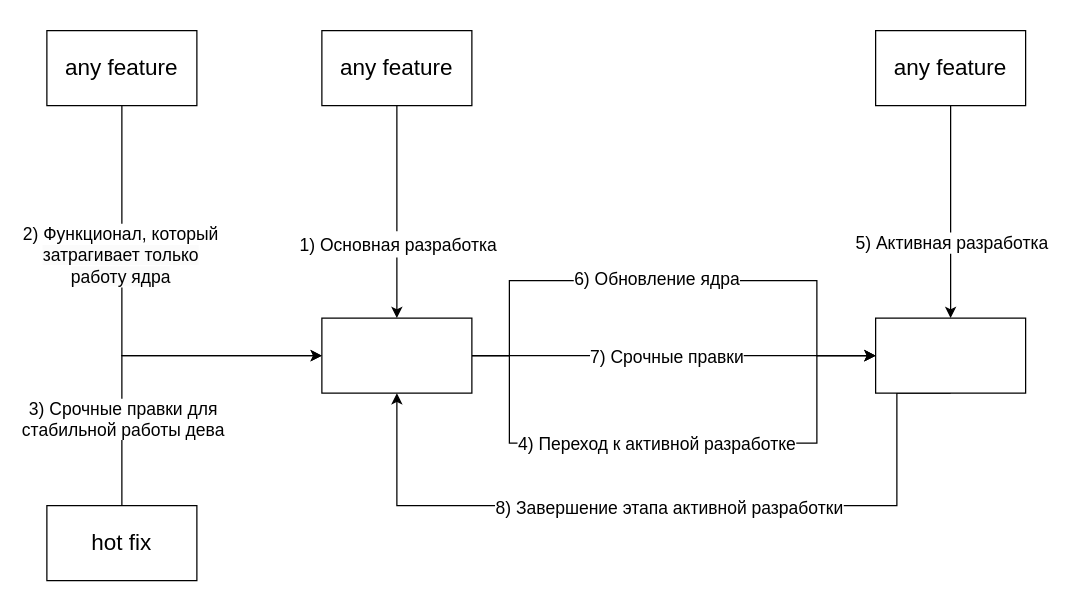
Some shapes in this 1069 by 603 pixel diagram are drawn without their labels. Here are the shapes that lost their labels. From the top down, the box of each, then its label:
(321, 317, 472, 393): dev
(874, 317, 1026, 393): active_dev
